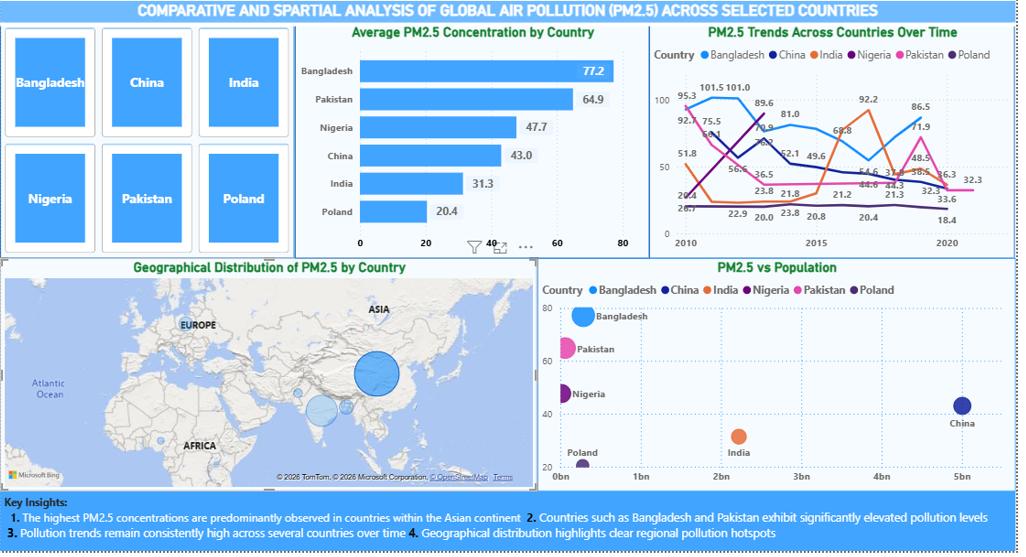

This screenshot's page, from the dashboard's own definition file:
{"tool":"powerbi","page":{"name":"Page 1","canvas":[1280,720],"ordinal":0},"visuals":[{"type":"advancedSlicerVisual","title":"Average PM2.5 Concentration (µg/m³) by Country","fields":{"Values":["Table.Country"]},"box":[0,54,371.4,296.9],"z":0},{"type":"lineChart","title":"PM2.5 Trends Across   Countries Over Time","fields":{"Category":["Table.Year"],"Y":["Avg(Table.PM2.5 Concentration (µg/m³))"],"Series":["Table.Country"]},"box":[818.6,54,461.4,296.9],"z":1000},{"type":"scatterChart","title":" PM2.5 vs Population","fields":{"Series":["Table.Country"],"Y":["Avg(Table.PM2.5 Concentration (µg/m³))"],"X":["Sum(Table.Population)"],"Size":["Avg(Table.PM2.5 Concentration (µg/m³))"]},"box":[677.3,350.8,602.7,294.3],"z":2000},{"type":"map","title":"Geographical Distribution  of  PM2.5  by Country","fields":{"Category":["Table3.Country"],"Size":["Avg(Table3.PM2.5 Concentration (µg/m³))"]},"box":[0,350.8,677.3,294.3],"z":3000},{"type":"clusteredBarChart","title":"Average PM2.5 Concentration by Country","fields":{"Category":["Table.Country"],"Y":["Avg(Table.PM2.5 Concentration (µg/m³))"]},"box":[371.4,54,447.2,296.9],"z":4000},{"type":"cardVisual","title":"COMPARATIVE AND SPARTIAL ANALYSIS OF GLOBAL AIR POLLUTION (PM2.5) ACROSS SELECTED COUNTRIES","fields":{"Rows":["Table.Country"]},"box":[0,27,1280,32.1],"z":5000},{"type":"textbox","box":[0,645.1,1280,74.5],"z":6000}]}

Visuals, with their boxes in screenshot pixels (x1, y1, x2, y2):
"Average PM2.5 Concentration (µg/m³) by Country" advancedSlicerVisual: crop(0, 21, 293, 256)
"PM2.5 Trends Across   Countries Over Time" lineChart: crop(646, 21, 1010, 256)
" PM2.5 vs Population" scatterChart: crop(535, 255, 1010, 488)
"Geographical Distribution  of  PM2.5  by Country" map: crop(0, 255, 535, 488)
"Average PM2.5 Concentration by Country" clusteredBarChart: crop(293, 21, 646, 256)
"COMPARATIVE AND SPARTIAL ANALYSIS OF GLOBAL AIR POLLUTION (PM2.5) ACROSS SELECTED COUNTRIES" cardVisual: crop(0, 0, 1010, 25)
textbox: crop(0, 488, 1010, 547)
